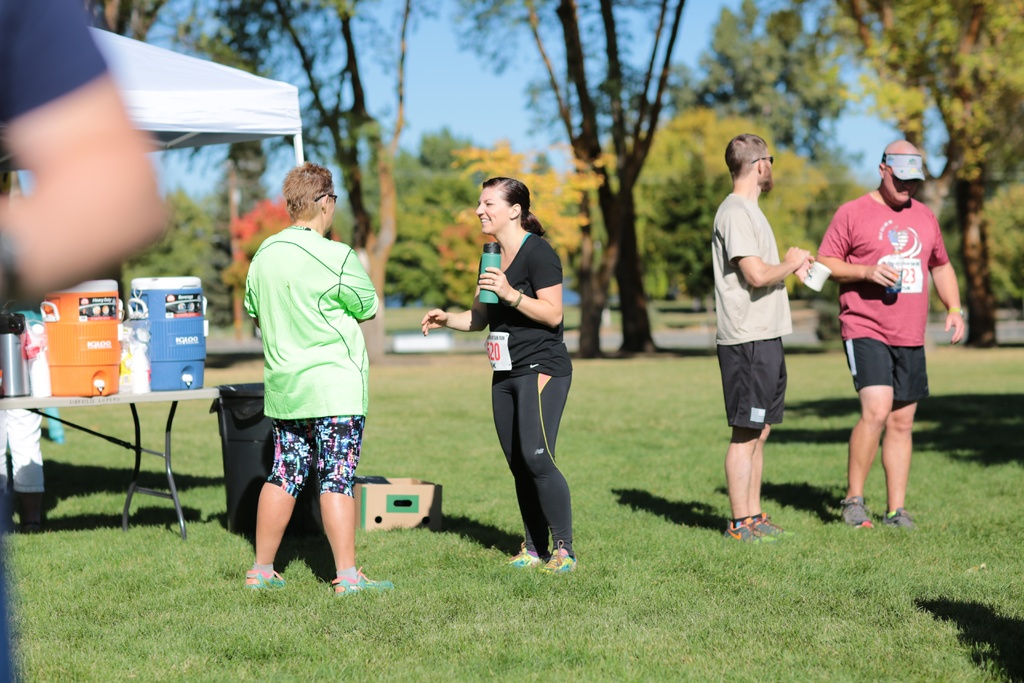Tree: (445, 0, 682, 354), (831, 0, 1023, 350), (220, 0, 376, 255)
